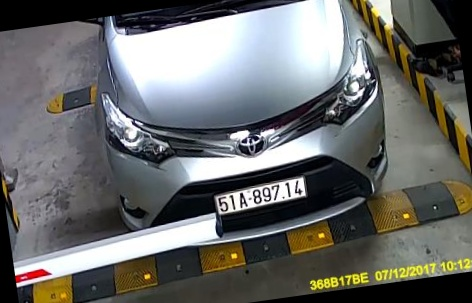plate: (209, 175, 315, 218)
